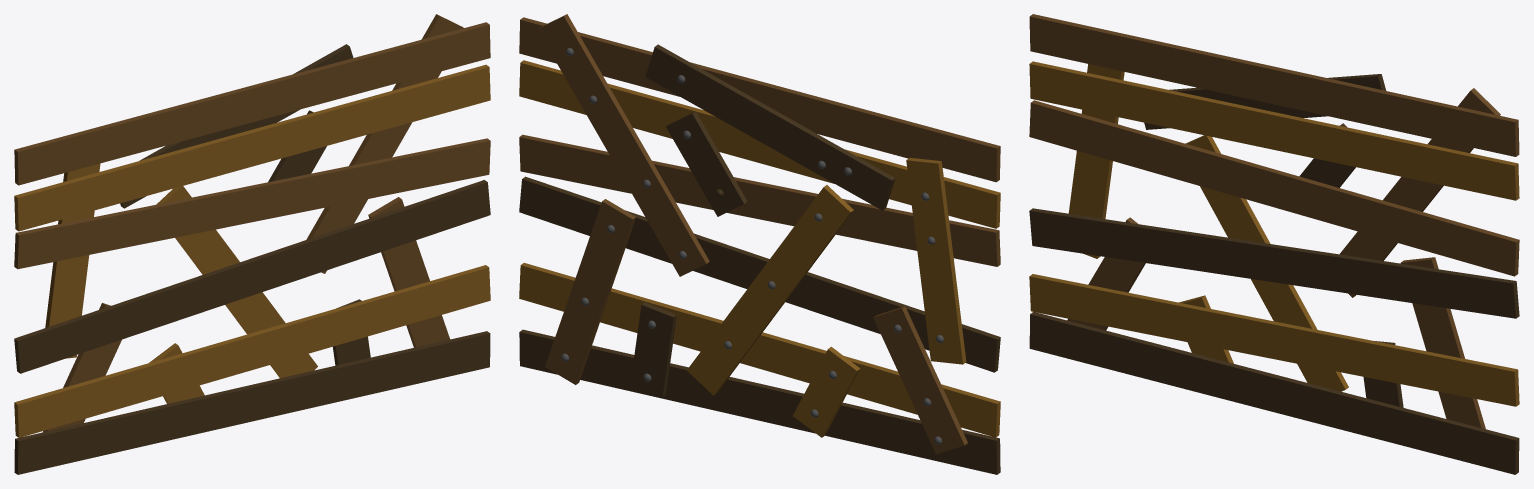
File: Color_Obstacle.fbx
3 views of the same model, side by side, from view 1: azimuth 30°, elevation 25°; view 2: azimuth 150°, elevation 25°; view 3: azimuth 330°, elevation 25° (orthographic). The views are drawn at different scales.
Visible parts, largest first — view 1: Cube.023, Cube.038, Cube.039, Cube.040, Cube.044, Cube.037, Cube.043, Cube.041, Cube.046, Cube.048, Cube.042, Cube.045 (+3 smaller); view 2: Cube.044, Cube.040, Cube.037, Cube.023, Cube.038, Cube.039, Cube.041, Cube.042, Cube.043, Cube.048, Cube.046, Cube.045 (+3 smaller); view 3: Cube.037, Cube.044, Cube.040, Cube.039, Cube.038, Cube.023, Cube.043, Cube.046, Cube.041, Cube.048, Cube.042, Cube.045 (+3 smaller).
Boxes of the visible parts, x1,y1,x2,y2 form: Cube.023: (14, 180, 490, 373); Cube.038: (14, 265, 490, 437); Cube.039: (14, 64, 490, 231); Cube.040: (14, 22, 490, 185); Cube.044: (14, 331, 490, 474); Cube.037: (14, 138, 490, 269); Cube.043: (156, 186, 317, 378); Cube.041: (306, 14, 463, 273); Cube.046: (368, 197, 450, 347); Cube.048: (45, 163, 100, 358); Cube.042: (120, 44, 353, 208); Cube.045: (43, 303, 121, 432); Cube.044: (519, 329, 1000, 474); Cube.040: (519, 17, 1000, 182); Cube.037: (519, 134, 1000, 266); Cube.023: (519, 176, 1000, 372); Cube.038: (519, 263, 1000, 437); Cube.039: (519, 60, 1000, 228); Cube.041: (537, 14, 709, 276); Cube.042: (645, 44, 895, 210); Cube.043: (687, 185, 853, 395); Cube.048: (906, 158, 966, 364); Cube.046: (545, 199, 635, 384); Cube.045: (873, 306, 967, 454); Cube.037: (1029, 100, 1519, 276); Cube.044: (1029, 312, 1519, 474); Cube.040: (1029, 14, 1519, 156); Cube.039: (1029, 61, 1519, 200); Cube.038: (1029, 274, 1519, 406); Cube.023: (1029, 208, 1519, 318); Cube.043: (1185, 135, 1348, 391); Cube.046: (1400, 257, 1485, 429); Cube.041: (1340, 88, 1500, 297); Cube.048: (1068, 64, 1124, 258); Cube.042: (1144, 74, 1386, 129); Cube.045: (1067, 217, 1145, 330).
Bounding box in the file's own units: 3.86 × 2.82 × 0.1362.
